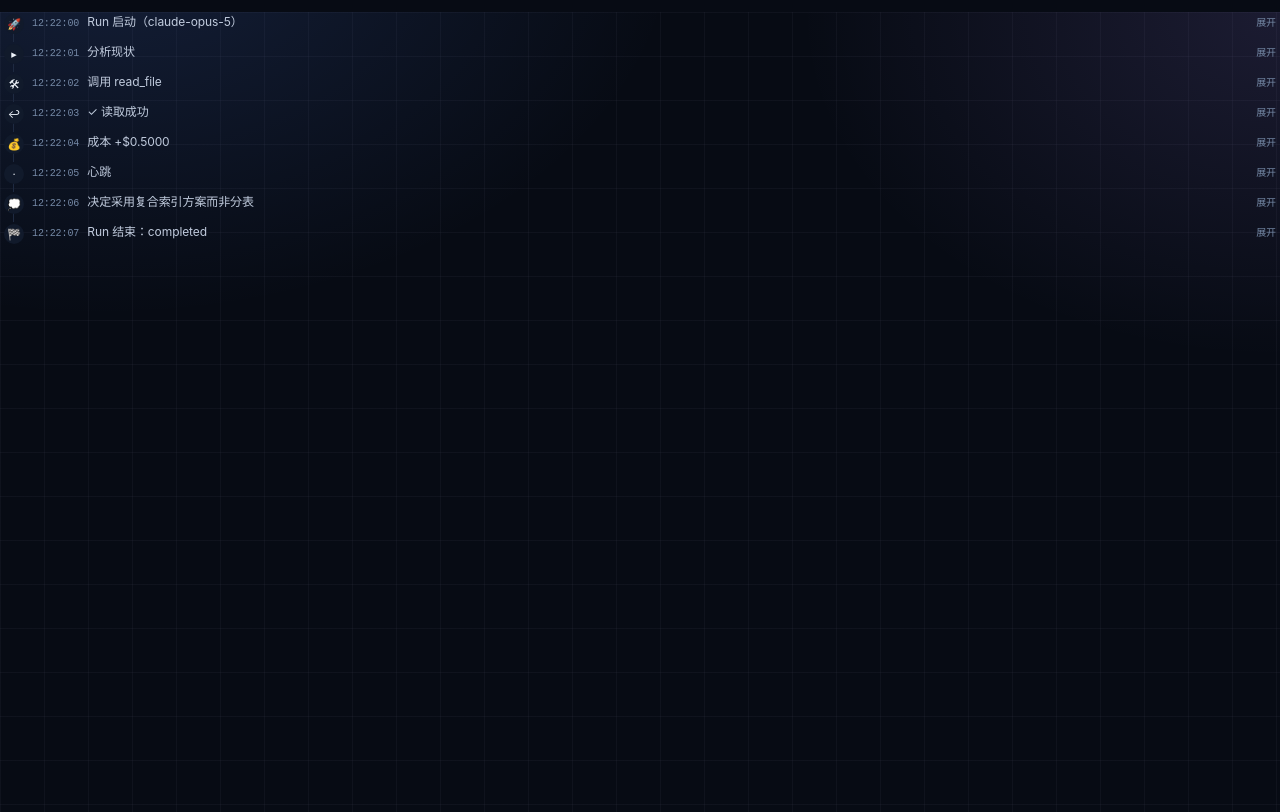
it: 执行流的简明与详细 › 详细模式可展开出原始 payload
The image size is (1280, 812).
定位到工具调用那一条，而不是碰巧排第一的那条
Click the button "展开" in the row of "调用 read_file": (1266, 82) [1256,75,1276,90]
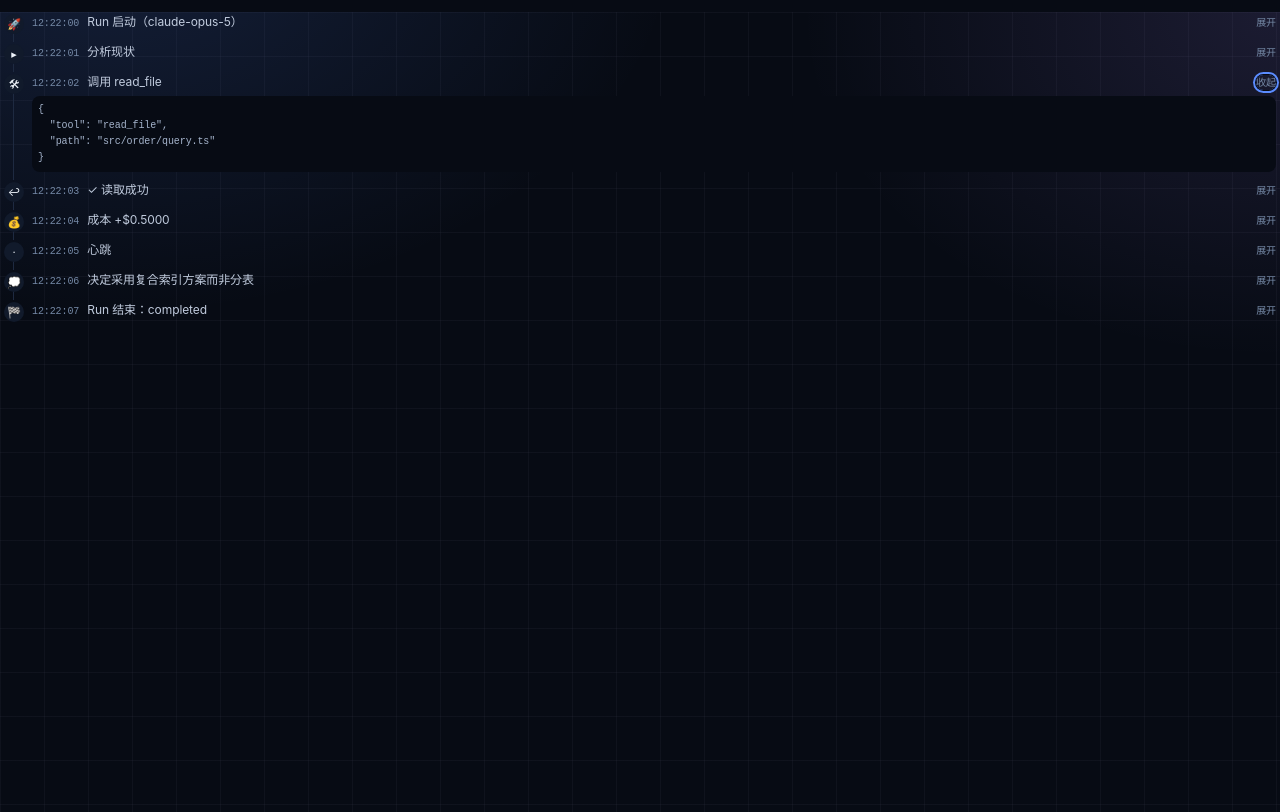
Check: the text "{ \"tool\": \"read_file\", \"path\": \"src/order/query.ts\" }" is shown, box [38,104,215,163]
